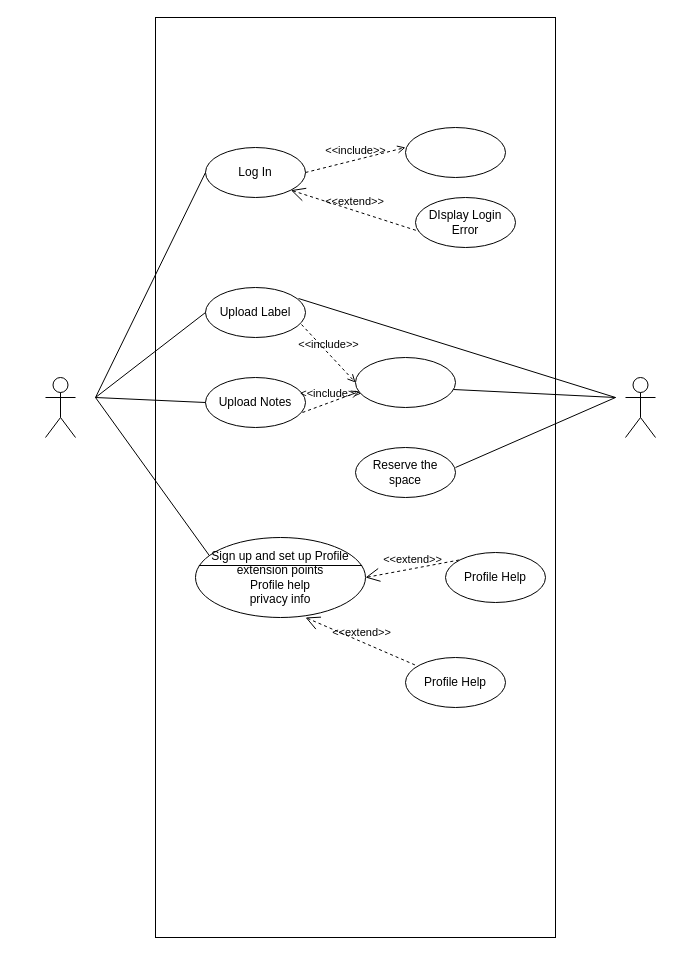
Image size: 684x955. Some labels were removed from this diagram. Each missing label, with the centre of its shape:
Employee: (x=640, y=407)
Find the date and time: (x=405, y=382)
Registered User: (x=60, y=407)
Verify Password: (x=455, y=152)
